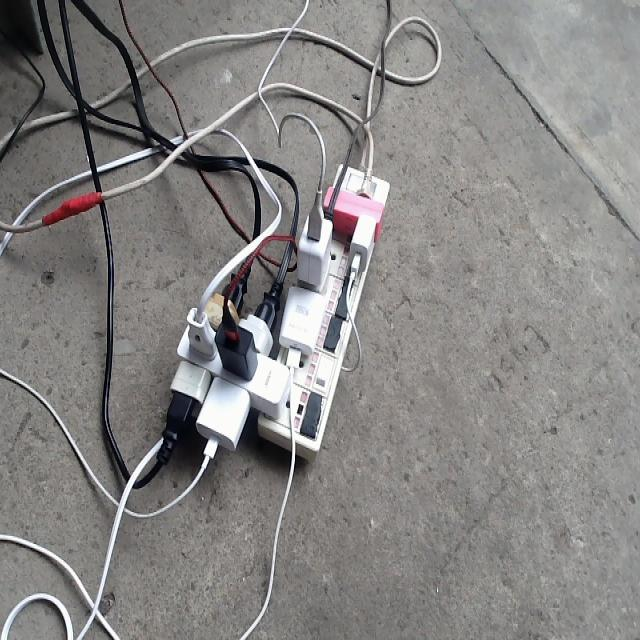-: (158, 160, 389, 464)
